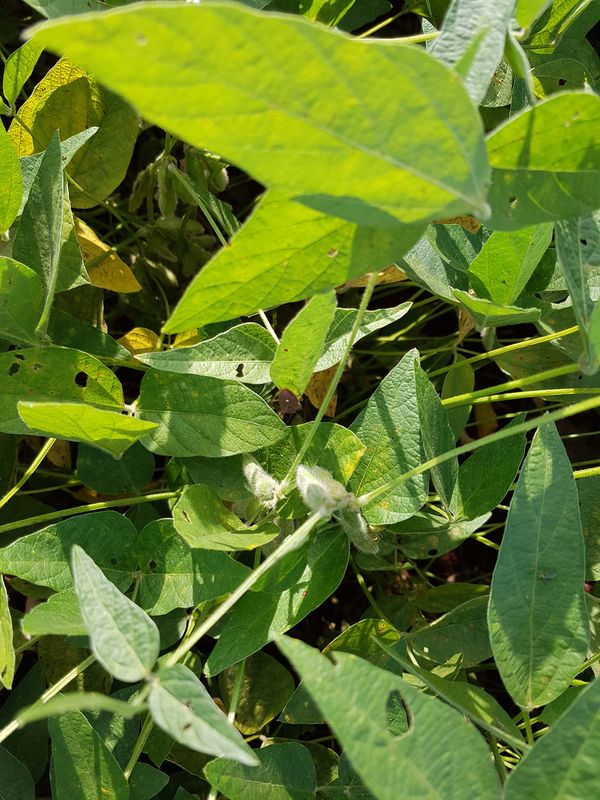Euschistus_heros_adulto: (267, 383, 308, 425)
